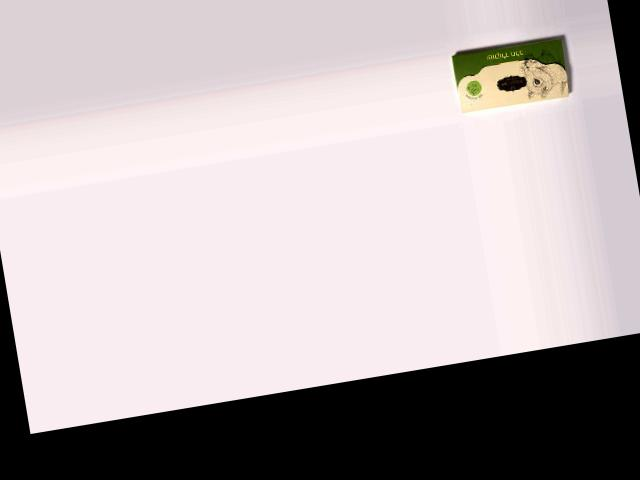chocolate: (450, 35, 572, 115)
